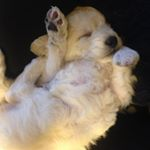puppy: (25, 4, 143, 84)
